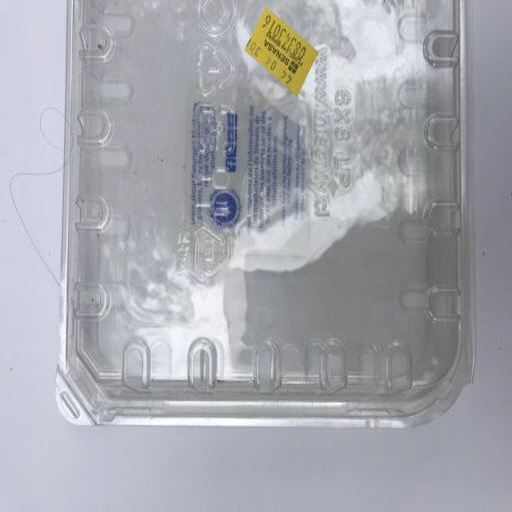Plastic_4: (55, 1, 476, 430)
